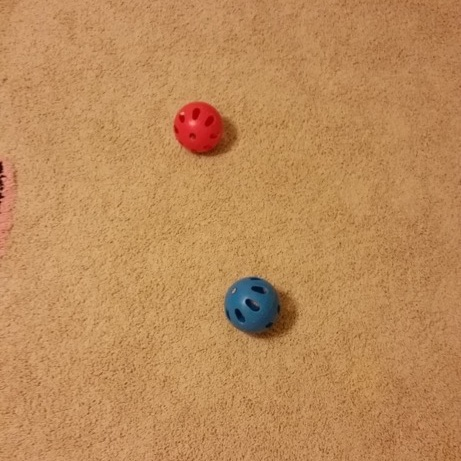ball: (219, 274, 284, 335), (169, 97, 229, 157)
